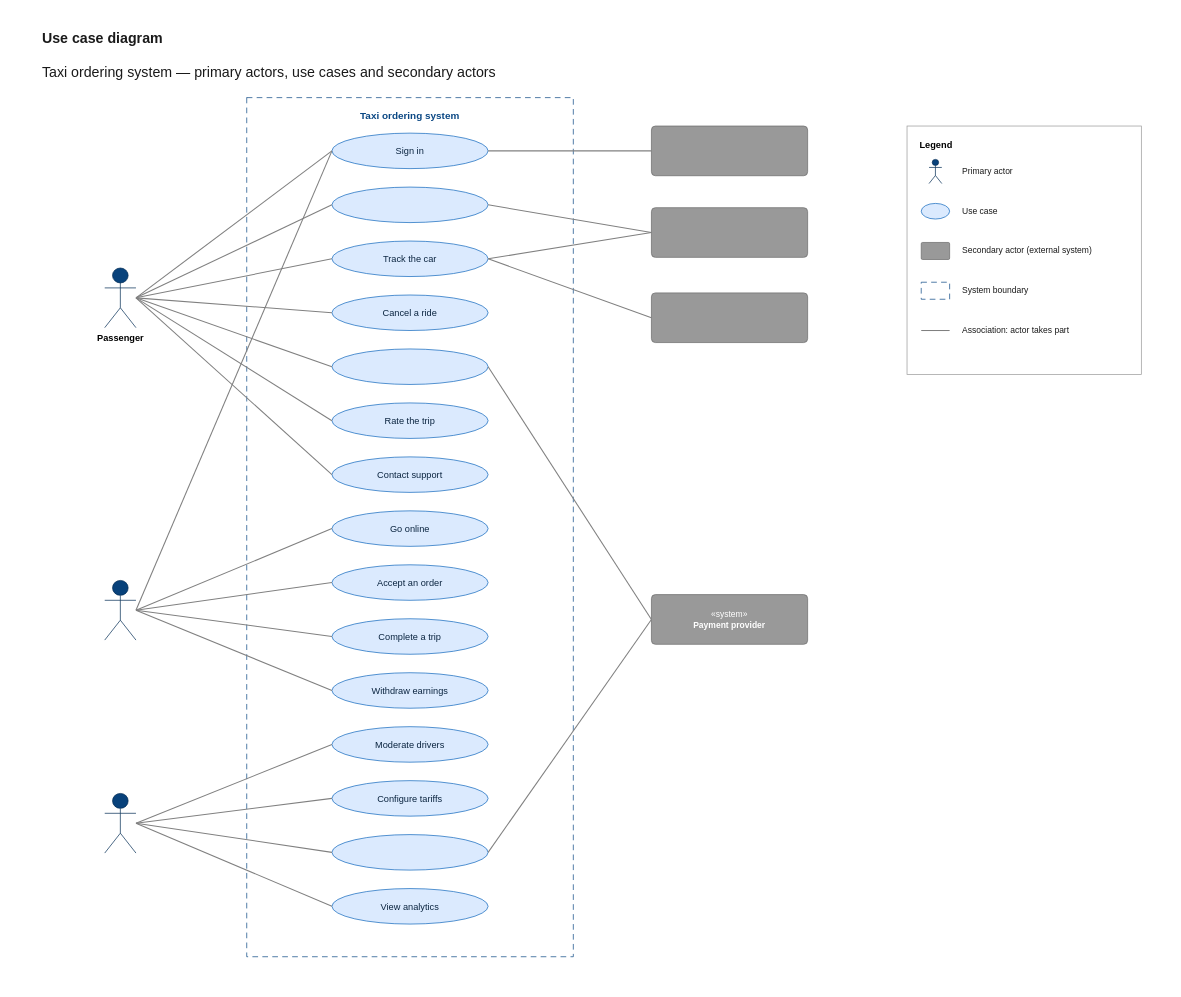
Some shapes in this 1181 by 997 pixel diagram are drawn without their labels. The centre of each missing label's shape, as x and y in pixels:
Driver: the point at 120,610
Handle tickets and refunds: the point at 409,852
Order a ride: the point at 409,204
Pay for a ride: the point at 409,366
Support operator, moderator, finance, administrator: the point at 120,823
«system» Firebase Cloud Messaging: the point at 729,317
«system» Google Maps API: the point at 729,232
«system» SMS gateway: the point at 729,150
